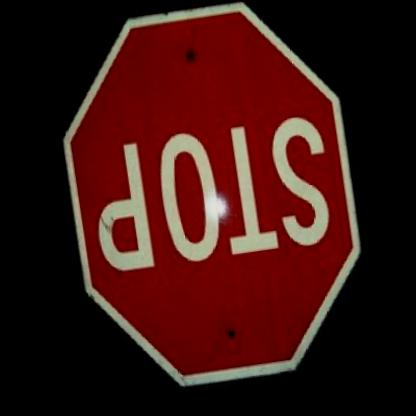stop: (47, 0, 381, 402)
